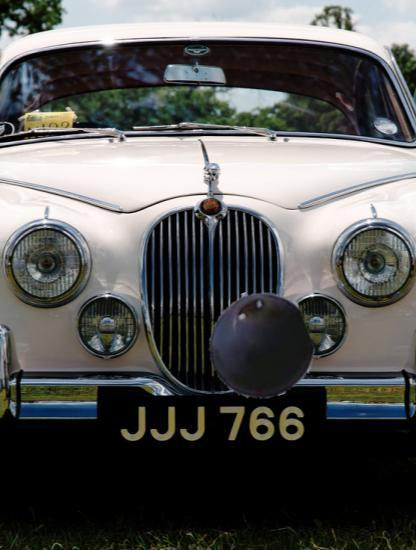Grape: (205, 291, 314, 400)
